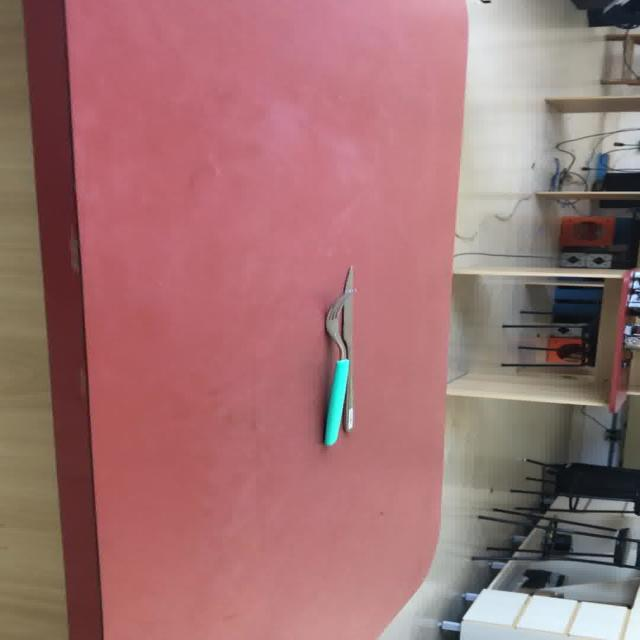fork: (321, 264, 356, 446)
knife fork: (321, 264, 356, 446)
